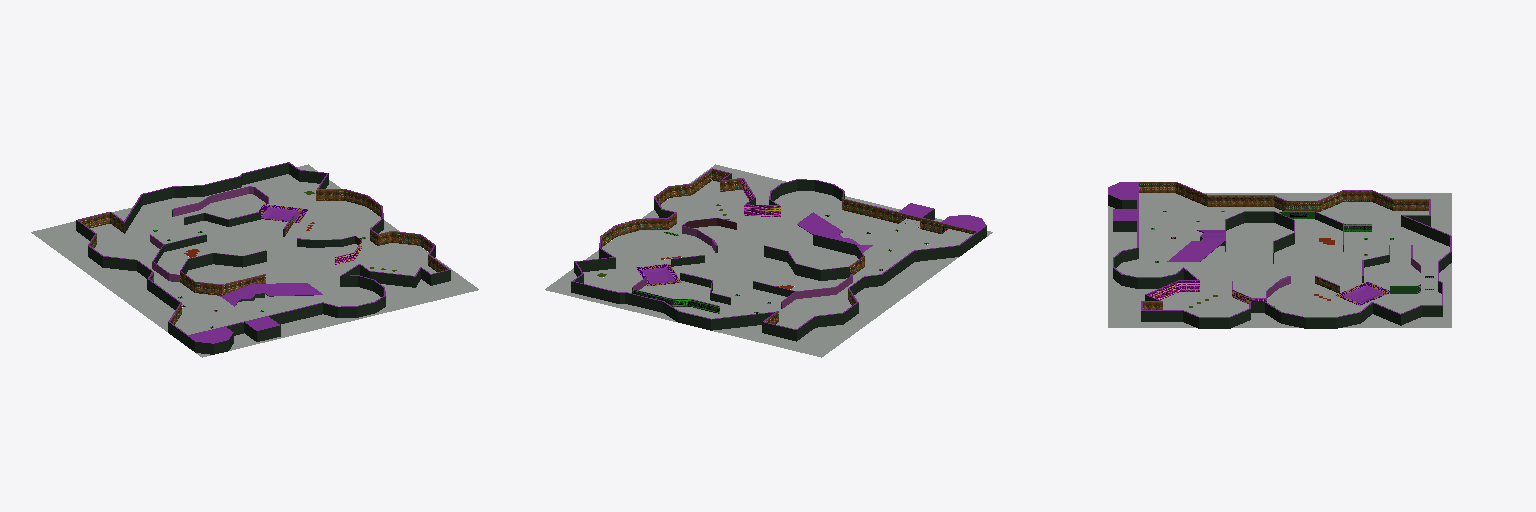
3 views of the same model, side by side, from view 1: azimuth 30°, elevation 25°; view 2: azimuth 150°, elevation 25°; view 3: azimuth 270°, elevation 25° (orthographic).
Visible parts, largest first — view 1: Final-SKP--Road_0x00_0, Final-SKP--Wall_0x0C_6, Final-SKP--Road_0x00_2, Final-SKP--Wall_0x0C_1, Final-SKP--Wall_0x0C_2; view 2: Final-SKP--Road_0x00_0, Final-SKP--Wall_0x0C_6, Final-SKP--Road_0x00_2, Final-SKP--Wall_0x0C_1, Final-SKP--Wall_0x0C_2; view 3: Final-SKP--Road_0x00_0, Final-SKP--Wall_0x0C_6, Final-SKP--Wall_0x0C_1, Final-SKP--Road_0x00_2, Final-SKP--Wall_0x0C_4.
Boxes of the visible parts, x1=… form: Final-SKP--Road_0x00_0: x1=31, y1=164, x2=478, y2=357; Final-SKP--Wall_0x0C_6: x1=76, y1=163, x2=450, y2=354; Final-SKP--Road_0x00_2: x1=77, y1=162, x2=449, y2=343; Final-SKP--Wall_0x0C_1: x1=79, y1=189, x2=447, y2=324; Final-SKP--Wall_0x0C_2: x1=150, y1=187, x2=268, y2=281; Final-SKP--Road_0x00_0: x1=545, y1=164, x2=992, y2=357; Final-SKP--Wall_0x0C_6: x1=571, y1=174, x2=986, y2=341; Final-SKP--Road_0x00_2: x1=571, y1=168, x2=986, y2=329; Final-SKP--Wall_0x0C_1: x1=600, y1=169, x2=975, y2=324; Final-SKP--Wall_0x0C_2: x1=633, y1=230, x2=852, y2=308; Final-SKP--Road_0x00_0: x1=1108, y1=193, x2=1451, y2=327; Final-SKP--Wall_0x0C_6: x1=1108, y1=195, x2=1451, y2=328; Final-SKP--Wall_0x0C_1: x1=1139, y1=182, x2=1428, y2=309; Final-SKP--Road_0x00_2: x1=1108, y1=182, x2=1451, y2=317; Final-SKP--Wall_0x0C_4: x1=1147, y1=281, x2=1266, y2=301.
Bounding box in the file's own units: 30252 × 1296 × 32172.
21 materials, 10 textured.